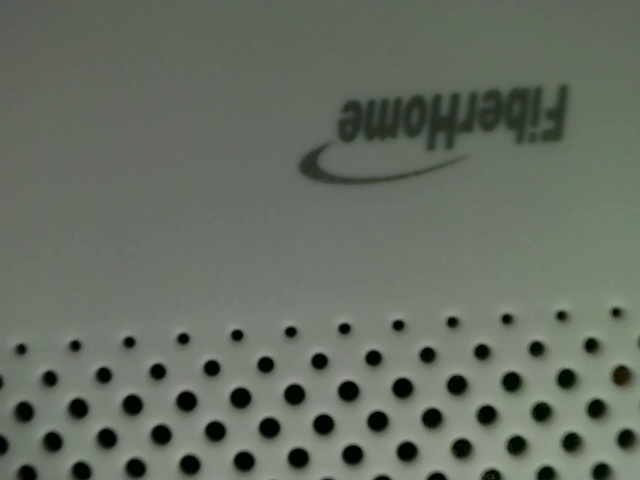AI_FiberHome: (290, 80, 583, 195)
